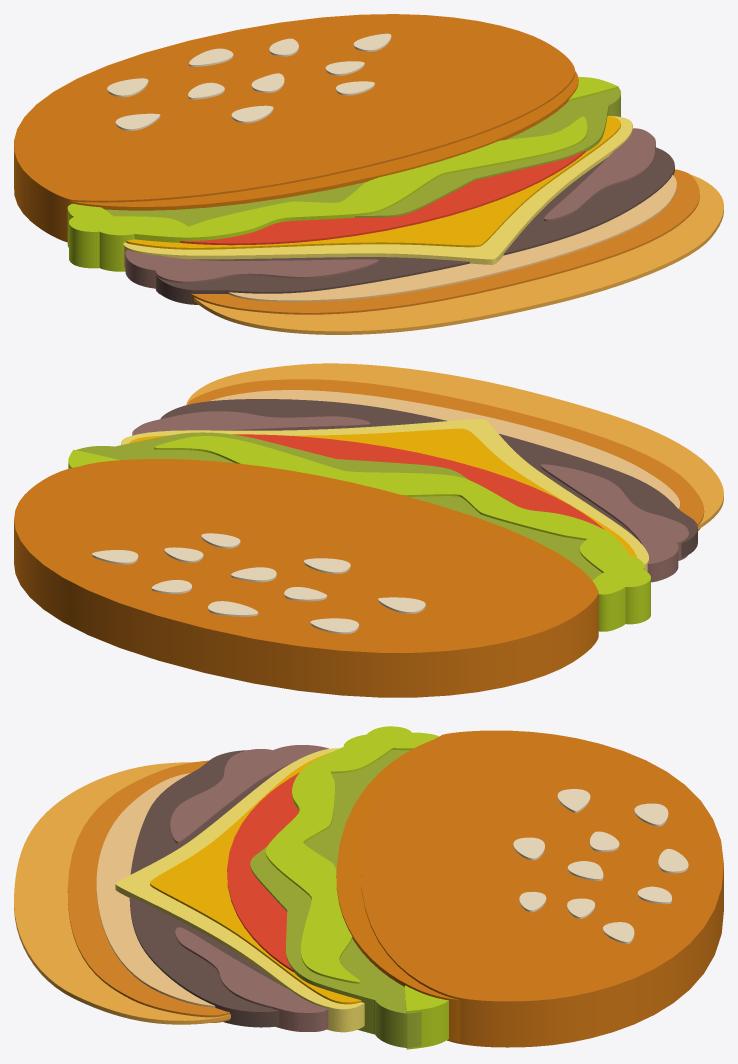
File: emoji_u1f354.glb
3 views of the same model, one above another, from view 1: azimuth 30°, elevation 25°; view 2: azimuth 150°, elevation 25°; view 3: azimuth 270°, elevation 25° (orthographic). The views are drawn at different scales.
Visible parts, largest first — view 1: emoji_u1f354; view 2: emoji_u1f354; view 3: emoji_u1f354.
Part boxes in pixels (x1,y1,x2,y2): emoji_u1f354: (14,14,723,334); emoji_u1f354: (14,363,723,697); emoji_u1f354: (14,726,723,1049).
Bounding box in the file's own units: 0.0319 × 0.0026 × 0.0335.
